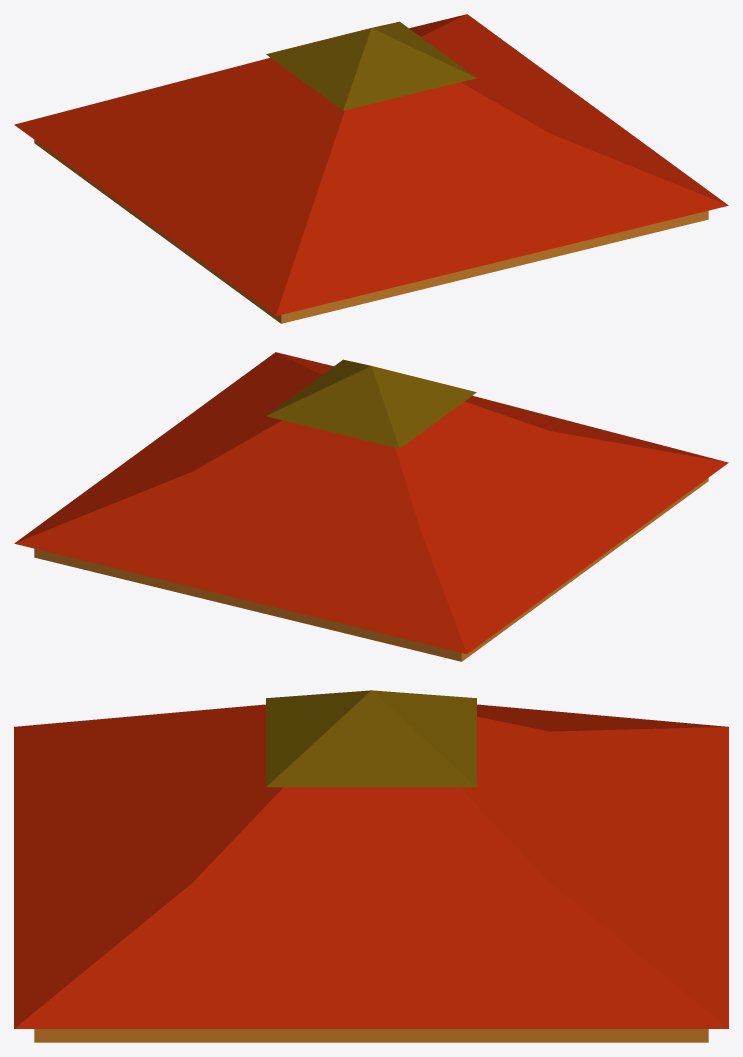
File: pavtop.fbx
3 renders of one model, top to bottom at view 1: azimuth 30°, elevation 25°; view 2: azimuth 150°, elevation 25°; view 3: azimuth 270°, elevation 25°, orthographic. The views are drawn at different scales.
Visible parts, largest first — view 1: Cube; view 2: Cube; view 3: Cube.
Boxes of the visible parts, bbox=[...] form: Cube: bbox=[14, 14, 728, 323]; Cube: bbox=[14, 352, 728, 661]; Cube: bbox=[14, 690, 728, 1042].
Bounding box in the file's own units: 849 × 275 × 849.
